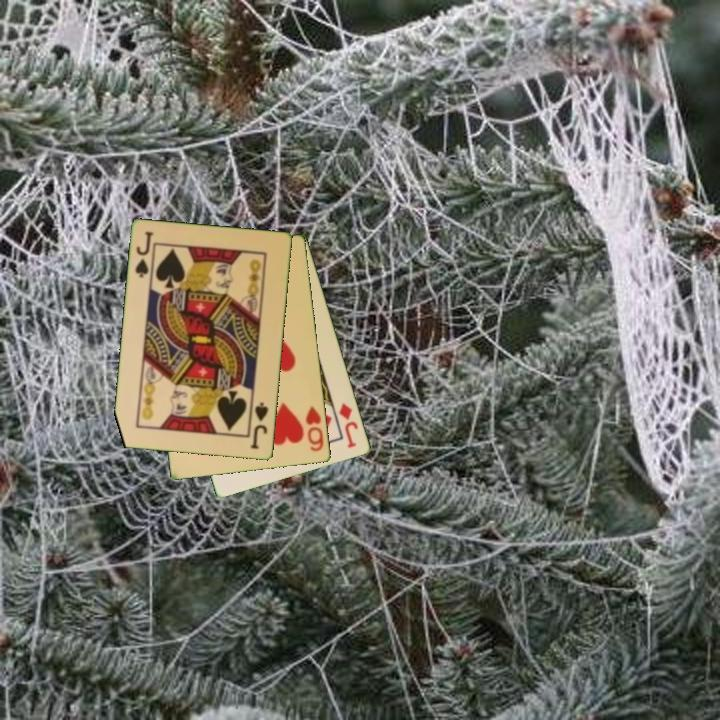6h: (302, 403, 327, 455)
Jd: (336, 399, 361, 451)
Js: (247, 399, 272, 452), (132, 228, 156, 281)
